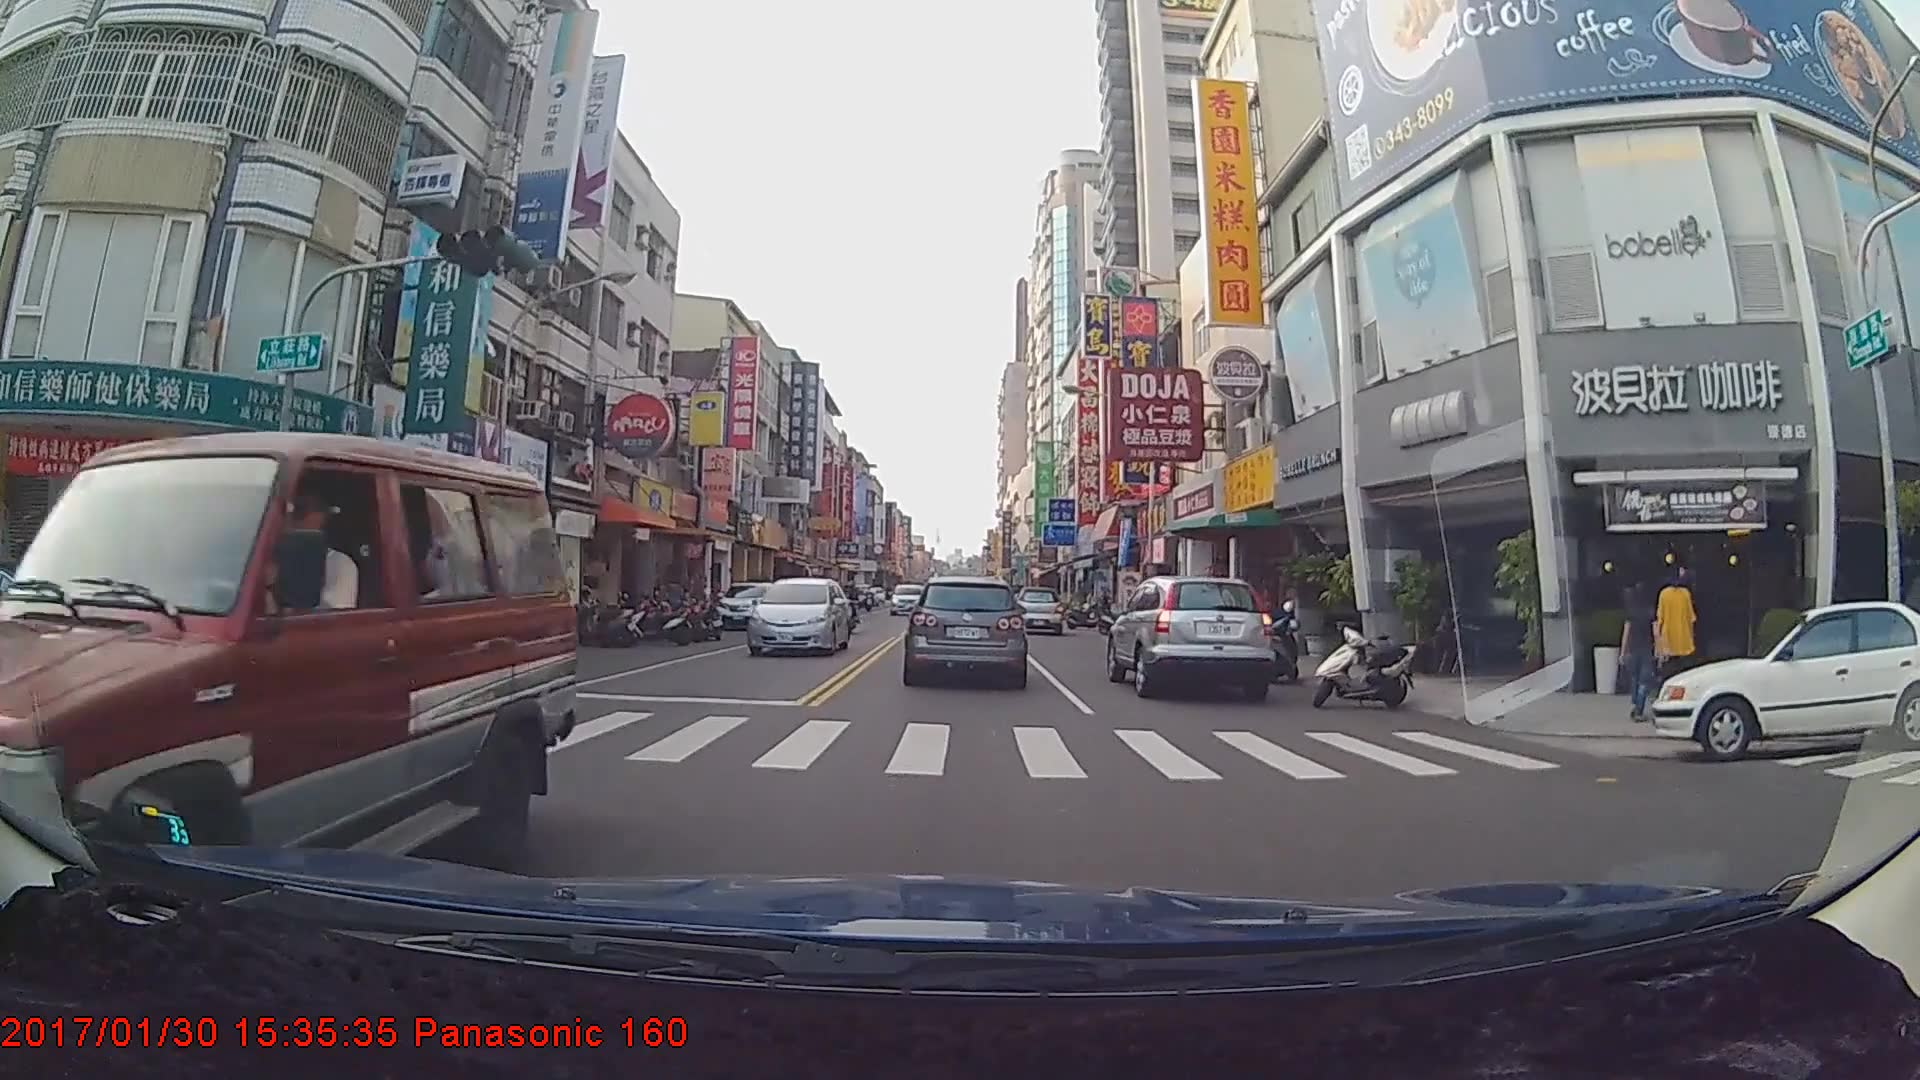pedestrian: (1616, 581, 1667, 727), (1654, 568, 1701, 696)
vehicle: (0, 426, 570, 958), (1654, 596, 1920, 761), (1106, 571, 1275, 700), (906, 572, 1024, 685), (747, 575, 853, 657), (715, 579, 776, 629), (1011, 586, 1063, 635), (889, 583, 926, 616)
